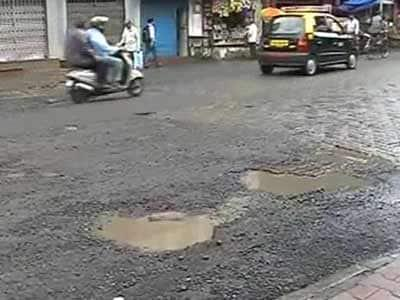pothole: (84, 202, 222, 247), (229, 162, 386, 200)
